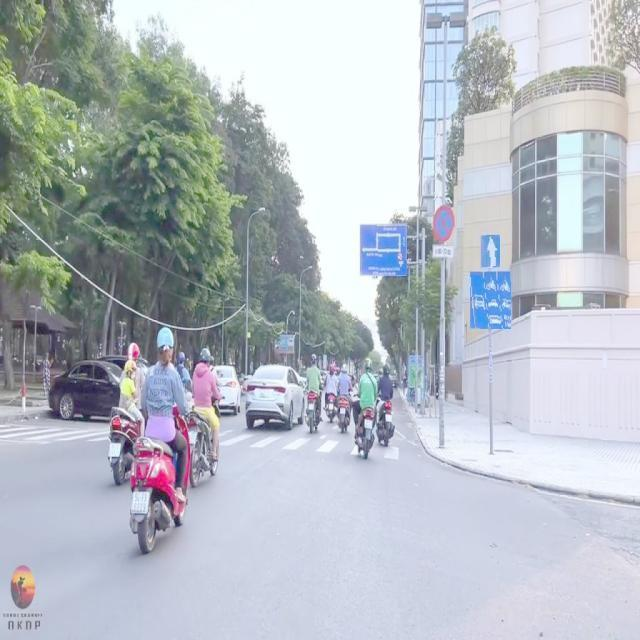130-cam-dung-va-do-xe: (434, 206, 454, 242)
407a-duong-mot-chieu: (480, 235, 500, 267)
